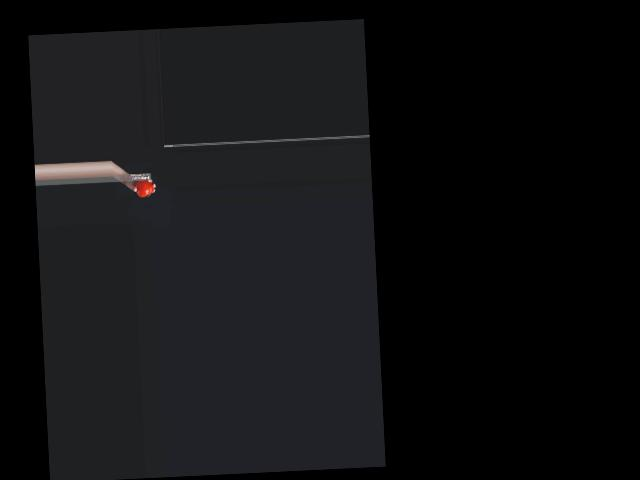tomato: (135, 179, 154, 197)
